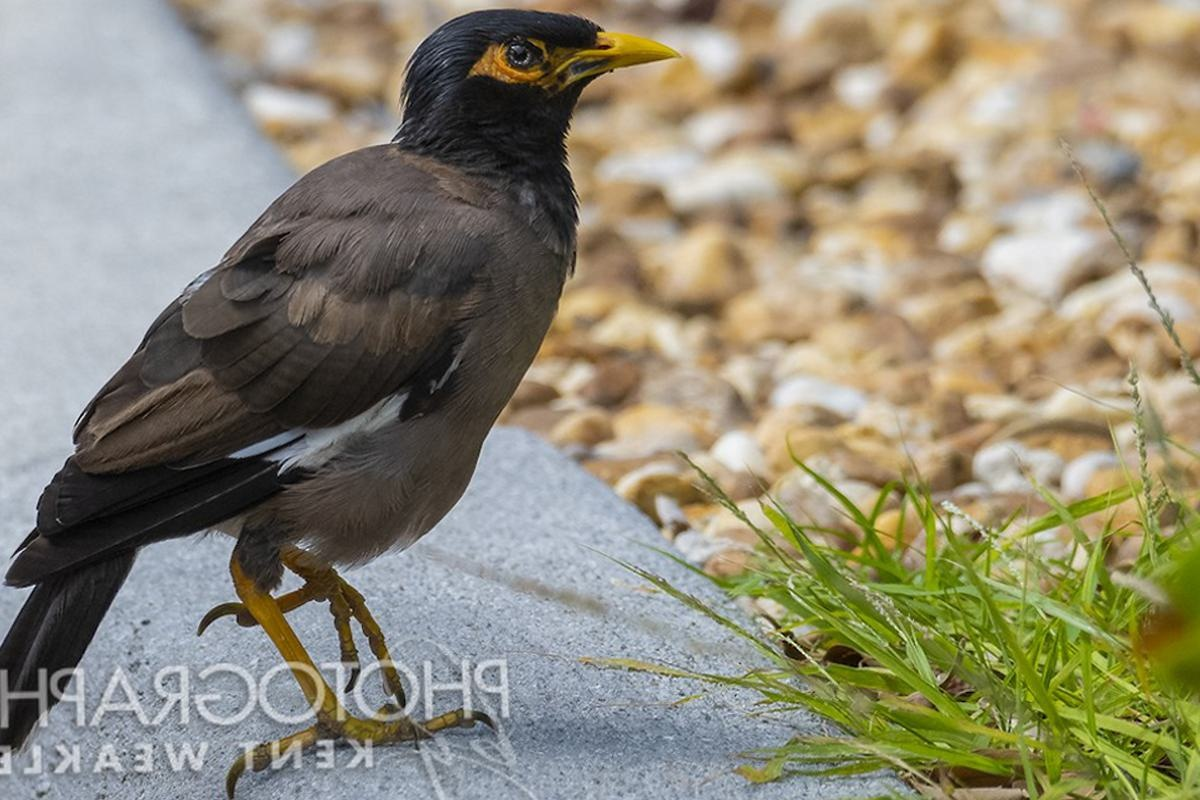myna: (14, 15, 701, 673)
